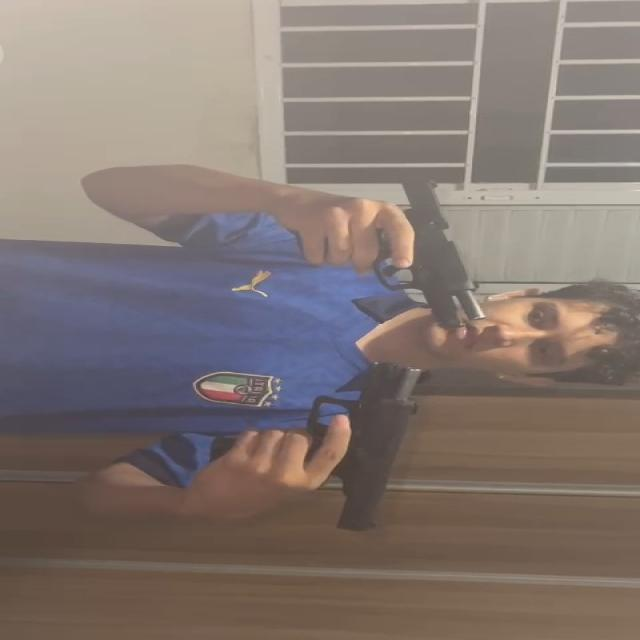gun: (303, 361, 425, 532), (395, 174, 483, 326)
